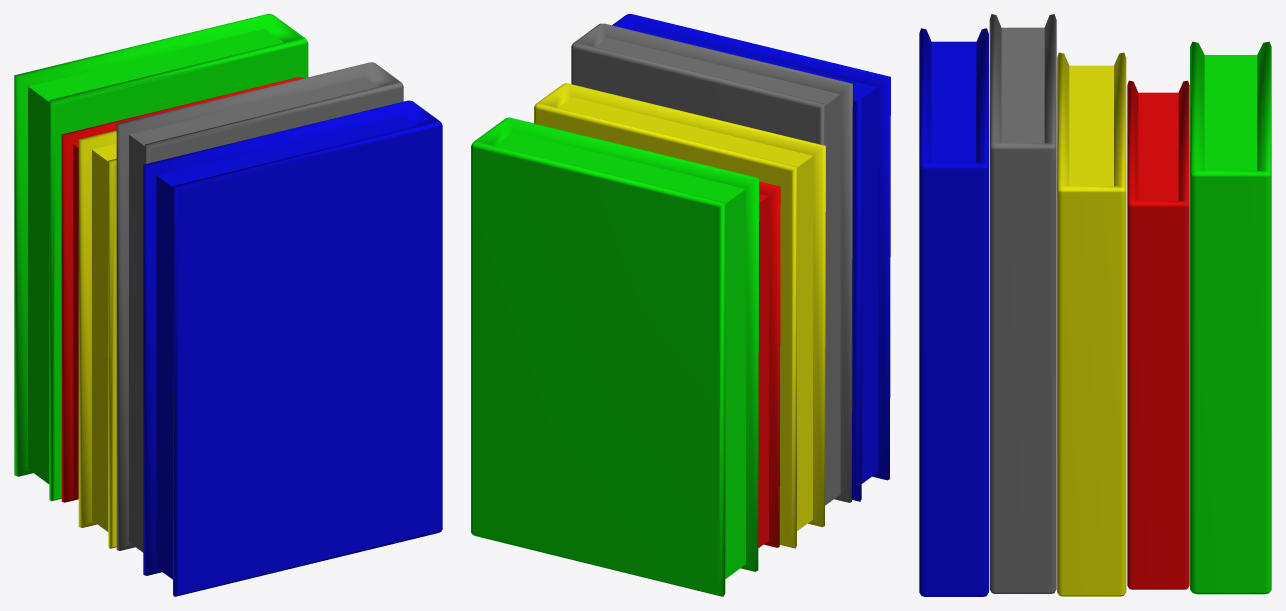
Rendered from SM_bookstack_02.fbx.
The picture shows the model from 3 angles, left to right: view 1: azimuth 30°, elevation 25°; view 2: azimuth 150°, elevation 25°; view 3: azimuth 270°, elevation 25°; orthographic projection. The views are drawn at different scales.
Parts seen in each view (by area): view 1: SM_bookstack_02; view 2: SM_bookstack_02; view 3: SM_bookstack_02.
Part boxes in pixels (bbox=[...]): SM_bookstack_02: bbox=[14, 14, 442, 596]; SM_bookstack_02: bbox=[471, 14, 890, 596]; SM_bookstack_02: bbox=[919, 14, 1271, 596].
Size of the model in its own units: 43.48 by 66.01 by 46.87.
